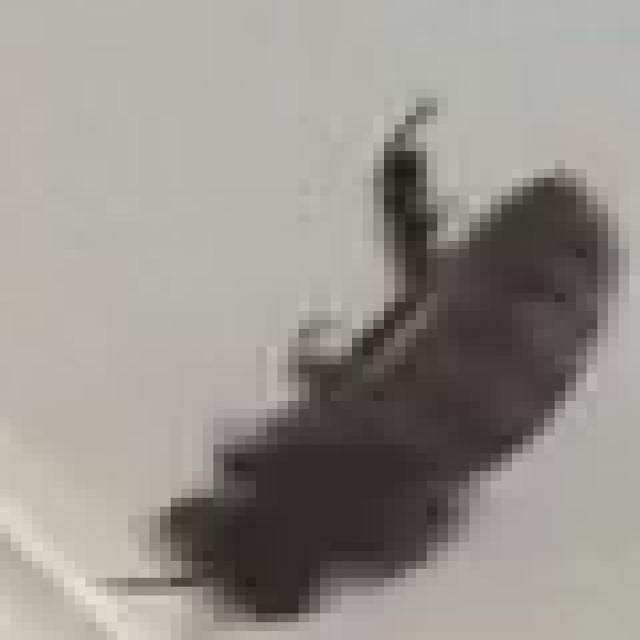honeybee: (141, 87, 629, 639)
